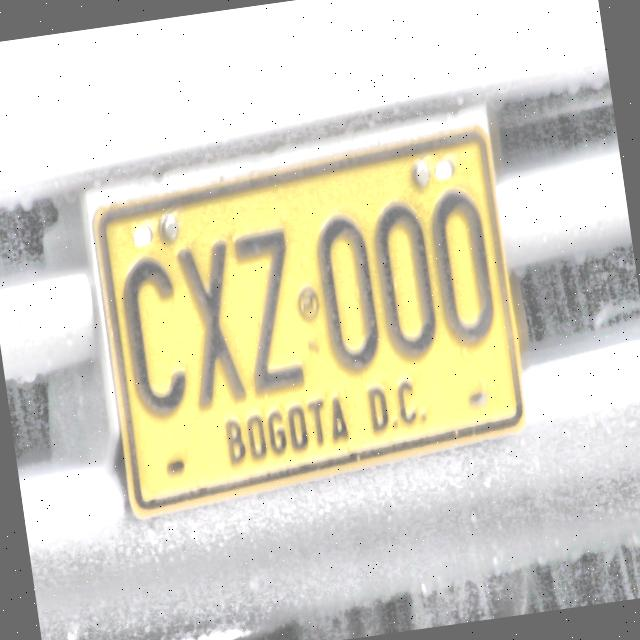plate: (81, 103, 527, 520)
